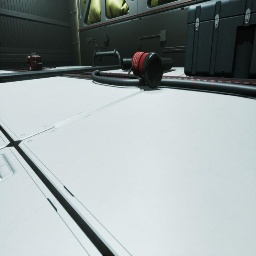FireExtinguisher ]: (128, 52, 163, 89)
FirstAidBox ,: (26, 55, 42, 71)
